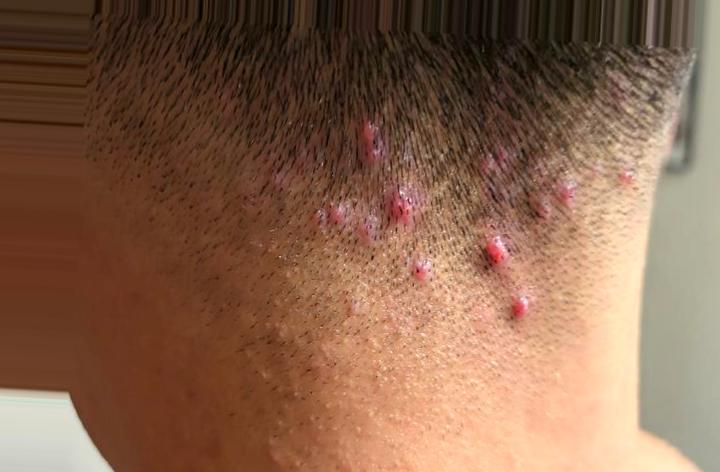Folliculitis: (330, 115, 592, 349)
